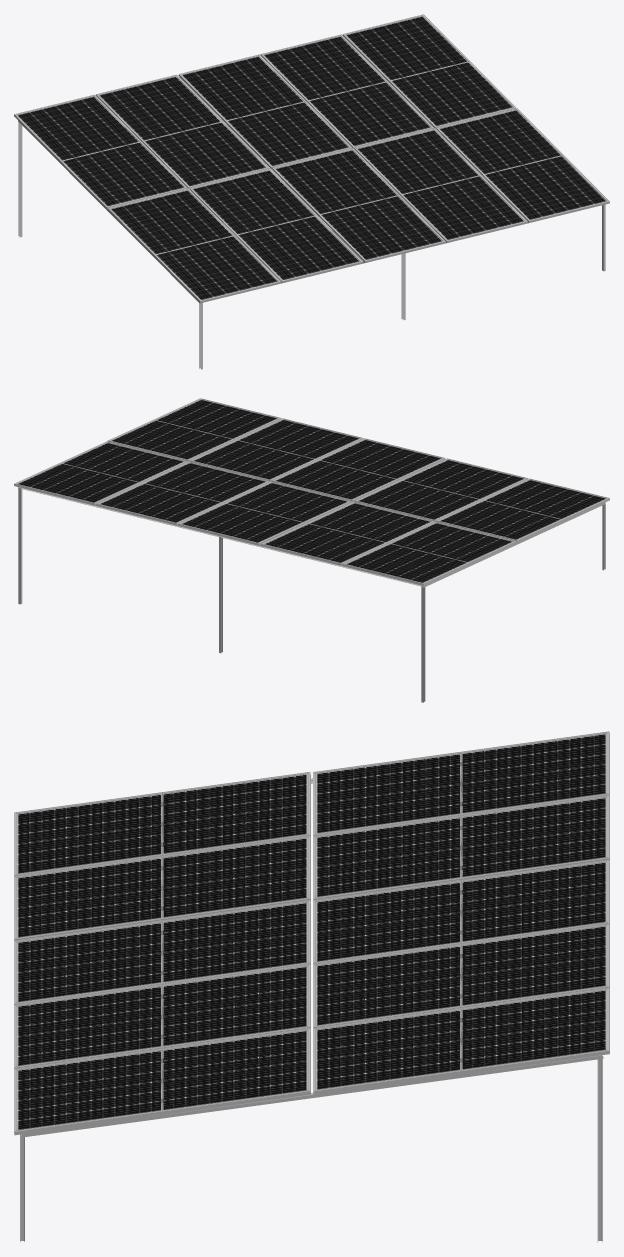
The picture shows the model from 3 angles, top to bottom: view 1: azimuth 30°, elevation 25°; view 2: azimuth 150°, elevation 25°; view 3: azimuth 270°, elevation 25°; orthographic projection. The views are drawn at different scales.
Visible parts, largest first — view 1: 5KW SOLARPANEL; view 2: 5KW SOLARPANEL; view 3: 5KW SOLARPANEL.
Boxes of the visible parts, x1,y1,x2,y2 form: 5KW SOLARPANEL: [14, 14, 609, 369]; 5KW SOLARPANEL: [14, 398, 609, 702]; 5KW SOLARPANEL: [14, 731, 609, 1242].
Size of the model in its own units: 5.75 by 1.63 by 4.53.
1 material, 1 textured.
